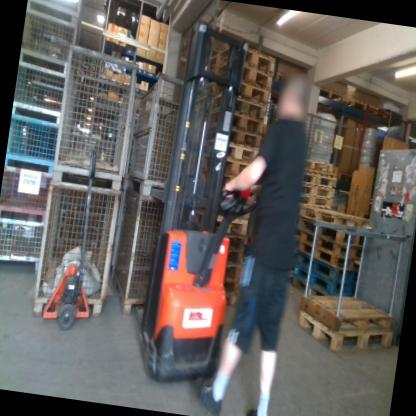pallet: (295, 286, 400, 339), (292, 310, 395, 363), (207, 43, 277, 75), (208, 65, 273, 91), (293, 264, 357, 288), (292, 277, 356, 300), (296, 251, 360, 274), (300, 226, 362, 246), (210, 84, 269, 105), (212, 97, 266, 119), (297, 240, 360, 258), (313, 208, 365, 225), (231, 116, 265, 137), (214, 217, 247, 237), (304, 170, 335, 186), (230, 134, 261, 150), (228, 144, 256, 161), (300, 184, 334, 197), (301, 194, 333, 205), (306, 160, 334, 172), (224, 160, 243, 177), (224, 266, 240, 282), (228, 238, 244, 253), (228, 252, 243, 268), (225, 291, 236, 305), (223, 282, 237, 291)
pallet_truck: (116, 16, 281, 403), (39, 141, 115, 336)
stillage: (106, 181, 208, 321), (29, 177, 124, 327), (49, 44, 141, 188), (123, 70, 216, 202), (19, 8, 79, 74), (11, 61, 70, 126), (5, 116, 61, 176), (0, 211, 48, 279), (0, 166, 57, 223), (26, 0, 81, 20)
